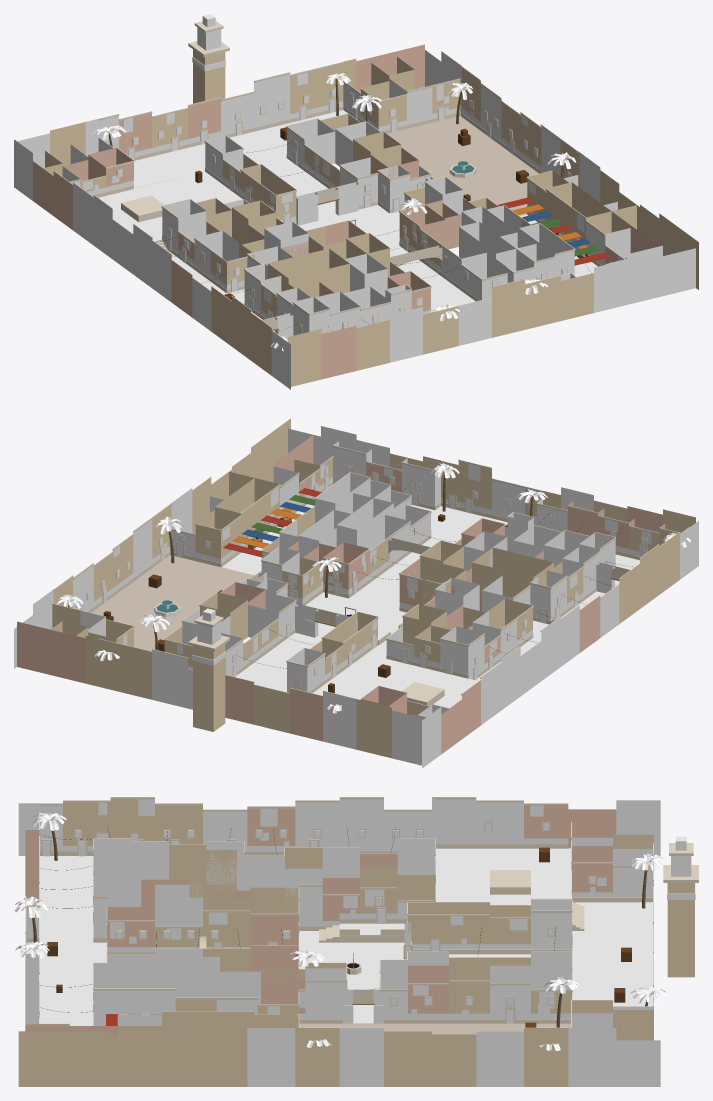
Rendered from medina.glb.
3 renders of one model, top to bottom at view 1: azimuth 30°, elevation 25°; view 2: azimuth 150°, elevation 25°; view 3: azimuth 270°, elevation 25°, orthographic. The views are drawn at different scales.
Visible parts, largest first — view 1: medina; view 2: medina; view 3: medina.
Boxes of the visible parts, box(x1,y1,x2,y2) form: medina: box(14, 14, 698, 389); medina: box(14, 418, 698, 768); medina: box(14, 797, 698, 1086).
Bounding box in the file's own units: 82.12 × 21.39 × 100.
